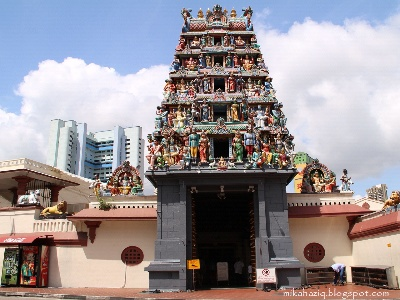gopura: (138, 14, 304, 169)
